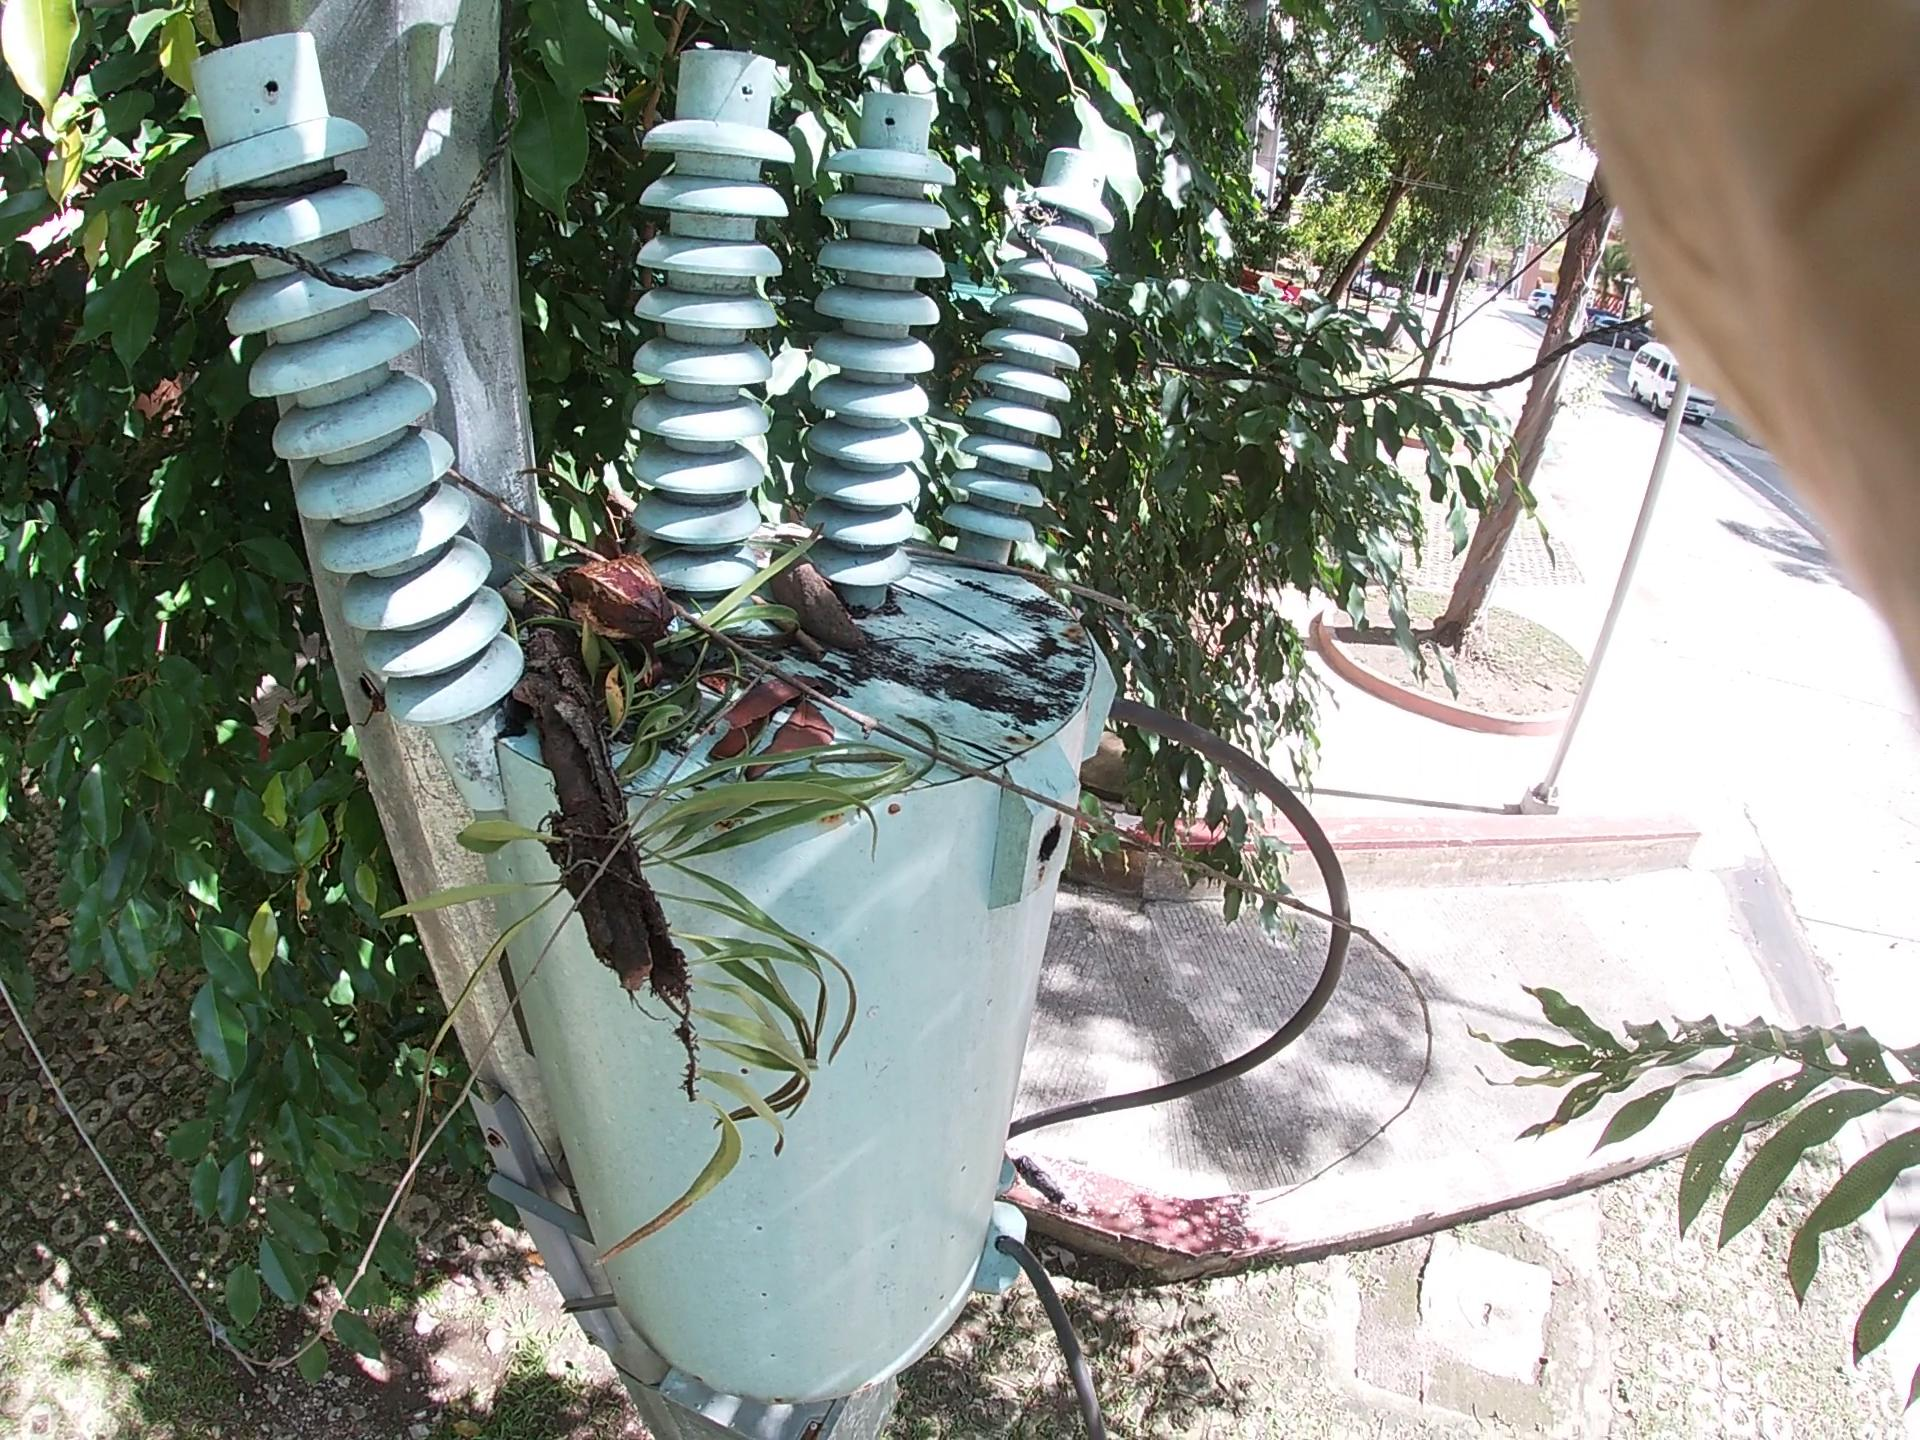branch with leaves: (432, 597, 730, 1013)
leaf: (724, 653, 865, 767)
mahogany fruit: (760, 504, 903, 673), (559, 532, 683, 640)
tree branch: (451, 457, 1445, 1009), (884, 489, 1172, 675), (742, 576, 901, 729)
